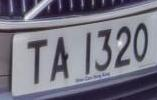0: (132, 19, 150, 65)
1: (80, 27, 97, 80)
2: (113, 23, 134, 70)
3: (90, 25, 117, 76)
A: (50, 33, 73, 85)
T: (24, 34, 50, 89)
